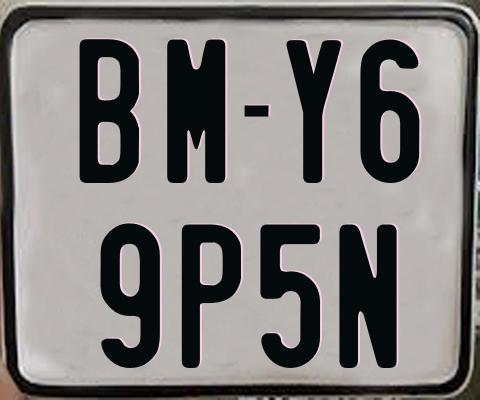5: (258, 221, 321, 366)
6: (360, 36, 419, 183)
9: (98, 222, 162, 370)
B: (77, 39, 142, 185)
M: (164, 39, 222, 183)
N: (336, 224, 397, 374)
P: (179, 222, 239, 370)
Y: (285, 38, 344, 185)
